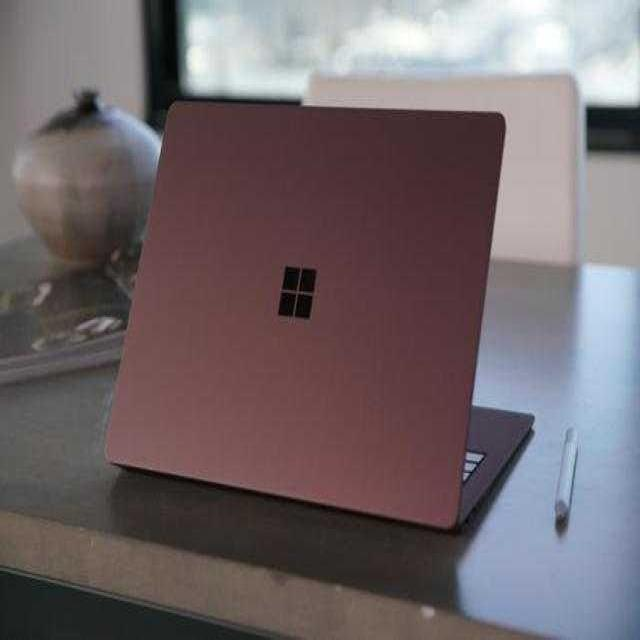laptop: (90, 70, 541, 560)
